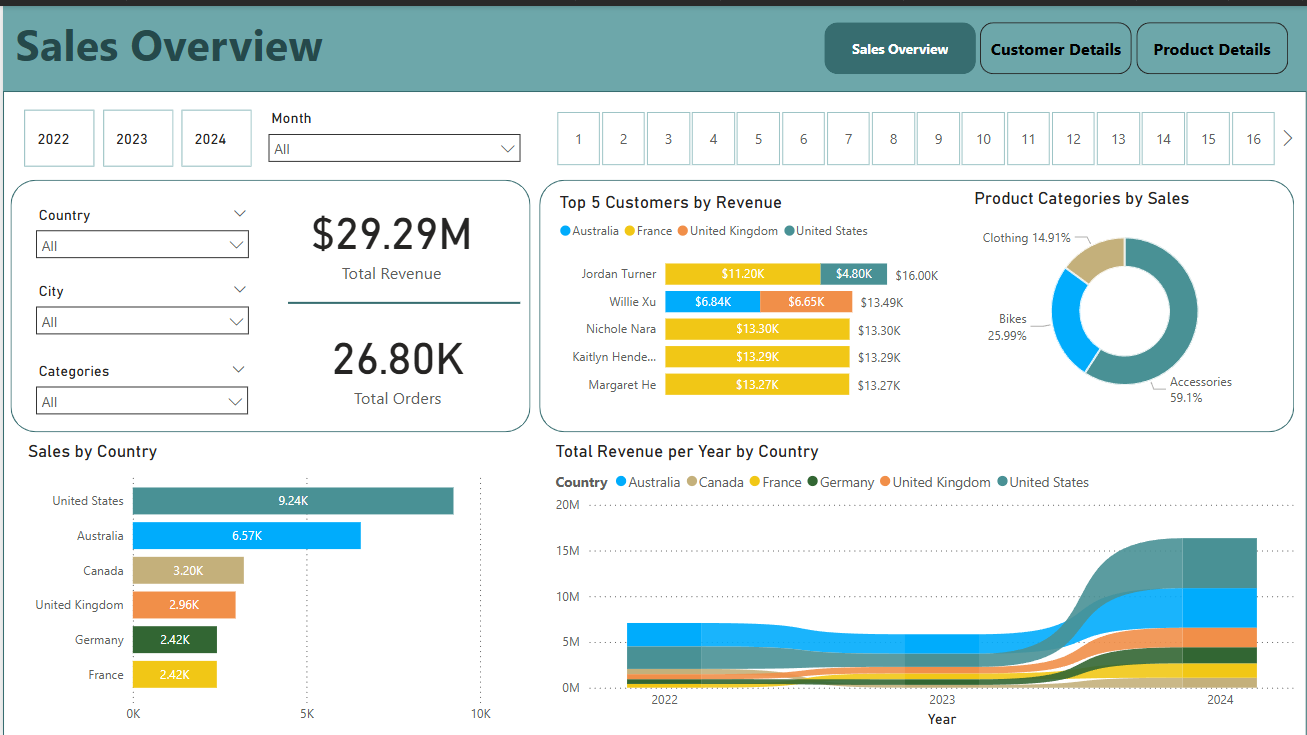

This screenshot's page, from the dashboard's own definition file:
{"tool":"powerbi","page":{"name":"Sales Overview","canvas":[1280,720],"ordinal":0},"visuals":[{"type":"shape","box":[0,83.4,1279.8,636.8],"z":2000},{"type":"shape","box":[526.4,170.6,741.1,247.9],"z":3000},{"type":"shape","box":[7.4,170.6,510.4,247.9],"z":4000},{"type":"textbox","box":[7.4,2.5,348.5,81],"z":5000},{"type":"card","fields":{"Values":["Sum(Sales.SalesAmount)"]},"box":[279.8,177.9,203.7,103.1],"z":6000},{"type":"slicer","fields":{"Values":["Product.Category"]},"box":[22.1,344.8,228.2,57.7],"z":7000},{"type":"advancedSlicerVisual","fields":{"Values":["Date.Year"]},"box":[16,96.9,234.4,66.3],"z":8000},{"type":"card","fields":{"Values":["Count(Sales.SalesOrderNumber)"]},"box":[279.8,301.8,216,100.6],"z":9000},{"type":"slicer","fields":{"Values":["Date.Month"]},"box":[250.3,96.9,267.5,66.3],"z":10000},{"type":"donutChart","title":"Product Categories by Sales","fields":{"Category":["Product.Category"],"Y":["CountNonNull(Sales.SalesOrderNumber)"]},"box":[948.5,177.9,305.5,224.5],"z":11000},{"type":"slicer","fields":{"Values":["Customer.Country"]},"box":[22.1,191.4,229.4,77.3],"z":12000},{"type":"ribbonChart","title":"Total Revenue per Year by Country","fields":{"Category":["Date.Date.Variation.Date Hierarchy.Year","Date.Date.Variation.Date Hierarchy.Quarter","Date.Date.Variation.Date Hierarchy.Month","Date.Date.Variation.Date Hierarchy.Day"],"Y":["Sum(Sales.SalesAmount)"],"Series":["Customer.Country"]},"box":[537.4,427,735,285.9],"z":13000},{"type":"barChart","title":"Top 5 Customers by Revenue","fields":{"Y":["Sum(Sales.SalesAmount)"],"Series":["Customer.Country"],"Category":["Customer.FullName"]},"box":[537.4,177.9,390.2,224.5],"z":14000},{"type":"barChart","title":"Sales by Country","fields":{"Category":["Customer.Country"],"Series":["Customer.Country"],"Y":["Count(Sales.SalesOrderNumber)"]},"box":[19.6,427,463.8,285.9],"z":15000},{"type":"shape","box":[279.8,277.3,228.2,28.2],"z":23000},{"type":"pageNavigator","box":[806.1,16,456.4,51.5],"z":23002},{"type":"slicer","fields":{"Values":["Date.WeekNo"]},"box":[517.8,96.9,754.6,66.3],"z":23003},{"type":"slicer","fields":{"Values":["Customer.City"]},"box":[22.1,266.3,229.4,77.3],"z":23004}]}

Visuals, with their boxes in screenshot pixels (x1, y1, x2, y2), scaled from the page's 1280x720 canvas onto the 1307x735 screenshot:
shape: x1=0, y1=85, x2=1306, y2=734
shape: x1=538, y1=174, x2=1294, y2=427
shape: x1=8, y1=174, x2=529, y2=427
textbox: x1=8, y1=3, x2=363, y2=85
card - Sum(Sales.SalesAmount): x1=286, y1=182, x2=494, y2=287
slicer - Product.Category: x1=23, y1=352, x2=256, y2=411
advancedSlicerVisual - Date.Year: x1=16, y1=99, x2=256, y2=167
card - Count(Sales.SalesOrderNumber): x1=286, y1=308, x2=506, y2=411
slicer - Date.Month: x1=256, y1=99, x2=529, y2=167
"Product Categories by Sales" donutChart: x1=969, y1=182, x2=1280, y2=411
slicer - Customer.Country: x1=23, y1=195, x2=257, y2=274
"Total Revenue per Year by Country" ribbonChart: x1=549, y1=436, x2=1299, y2=728
"Top 5 Customers by Revenue" barChart: x1=549, y1=182, x2=947, y2=411
"Sales by Country" barChart: x1=20, y1=436, x2=494, y2=728
shape: x1=286, y1=283, x2=519, y2=312
pageNavigator: x1=823, y1=16, x2=1289, y2=69
slicer - Date.WeekNo: x1=529, y1=99, x2=1299, y2=167
slicer - Customer.City: x1=23, y1=272, x2=257, y2=351
